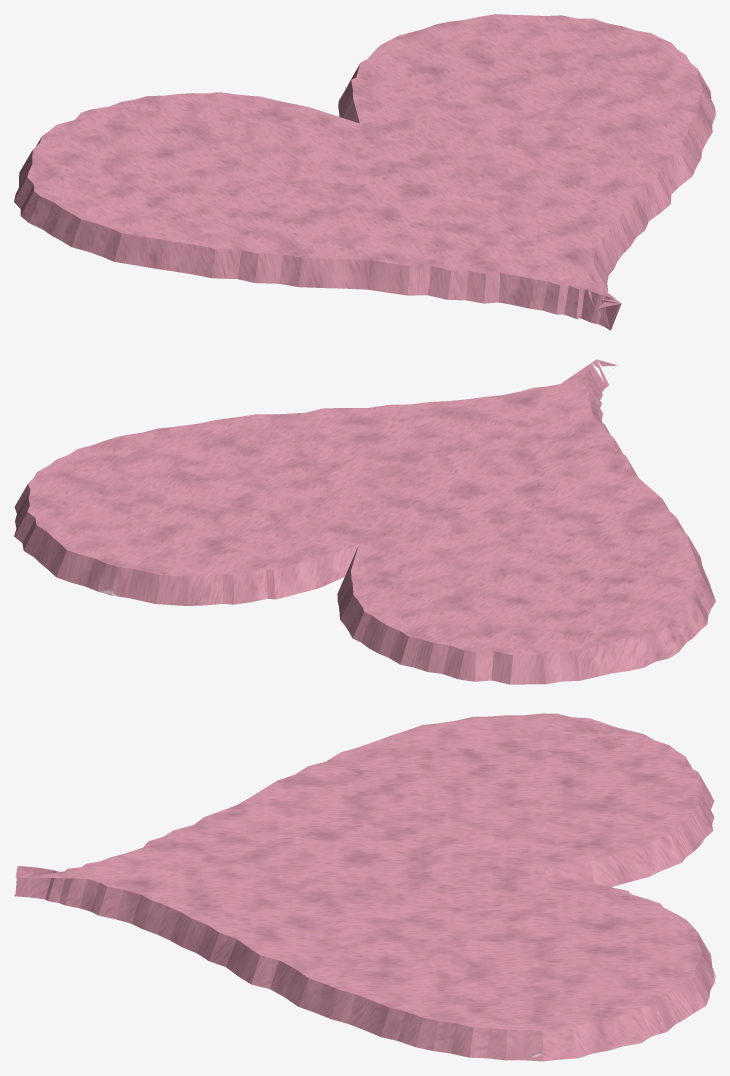
Rendered from rug-shag-heart.glb.
The picture shows the model from 3 angles, top to bottom: view 1: azimuth 30°, elevation 25°; view 2: azimuth 150°, elevation 25°; view 3: azimuth 270°, elevation 25°; orthographic projection. The views are drawn at different scales.
Visible parts, largest first — view 1: rug-shag-heart; view 2: rug-shag-heart; view 3: rug-shag-heart.
Part boxes in pixels (x1=…): rug-shag-heart: x1=14, y1=14, x2=715, y2=330; rug-shag-heart: x1=14, y1=359, x2=715, y2=684; rug-shag-heart: x1=14, y1=713, x2=715, y2=1061.
Size of the model in its own units: 1 by 0.035 by 0.9049.
1 material, 1 textured.
